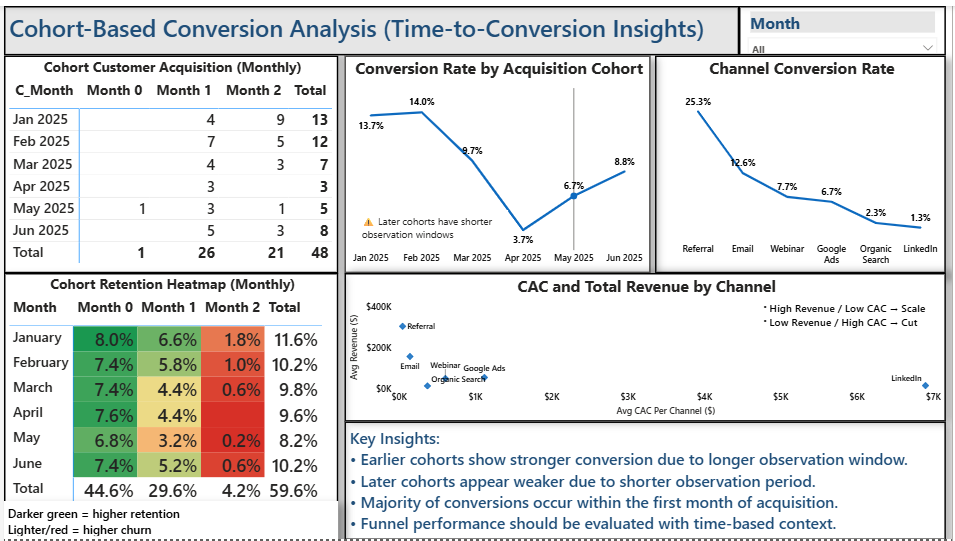

This screenshot's page, from the dashboard's own definition file:
{"tool":"powerbi","page":{"name":"Page 3","canvas":[1280,720],"ordinal":2},"visuals":[{"type":"lineChart","title":"Channel Conversion Rate","fields":{"Category":["leads.channel"],"Y":["lead_stage_events.Conversion Rate"]},"box":[879,66.8,392.9,293.7],"z":0},{"type":"pieChart","title":"Average Days to Customer by channel","fields":{"Category":["leads.channel"],"Y":["lead_stage_events.Avg Days to Customer"]},"box":[0,360.5,451.6,360.5],"z":1000},{"type":"textbox","box":[459.7,561,812.2,160],"z":2000},{"type":"pivotTable","fields":{"Rows":["leads.Cohort Month Name"],"Columns":["lead_stage_events.Months Since Cohort"],"Values":["leads.Customer Count"]},"box":[0,66.8,451.6,293.7],"z":3000},{"type":"lineChart","title":"Conversion Rate by Acquisition Cohort","fields":{"Category":["leads.Cohort Month Name"],"Y":["lead_stage_events.Cohort Conversion Rate"]},"box":[459.7,66.8,413.2,293.7],"z":4000},{"type":"textbox","box":[0,0,992.4,66.8],"z":5000},{"type":"scatterChart","fields":{"Category":["leads.channel"],"X":["lead_stage_events.CAC"],"Y":["lead_stage_events.Total Revenue"]},"box":[459.7,360.5,812.2,200.5],"z":6000},{"type":"slicer","fields":{"Values":["leads.Cohort Month Name"]},"box":[992.4,0,279.5,66.8],"z":7000}]}

Visuals, with their boxes in screenshot pixels (x1, y1, x2, y2), scaled from the page's 1280x720 canvas onto the 955x541 screenshot:
"Channel Conversion Rate" lineChart: <box>656,50,949,271</box>
"Average Days to Customer by channel" pieChart: <box>0,271,337,540</box>
textbox: <box>343,422,949,540</box>
pivotTable - leads.Cohort Month Name x lead_stage_events.Months Since Cohort: <box>0,50,337,271</box>
"Conversion Rate by Acquisition Cohort" lineChart: <box>343,50,651,271</box>
textbox: <box>0,0,740,50</box>
scatterChart - leads.channel x lead_stage_events.CAC: <box>343,271,949,422</box>
slicer - leads.Cohort Month Name: <box>740,0,949,50</box>
